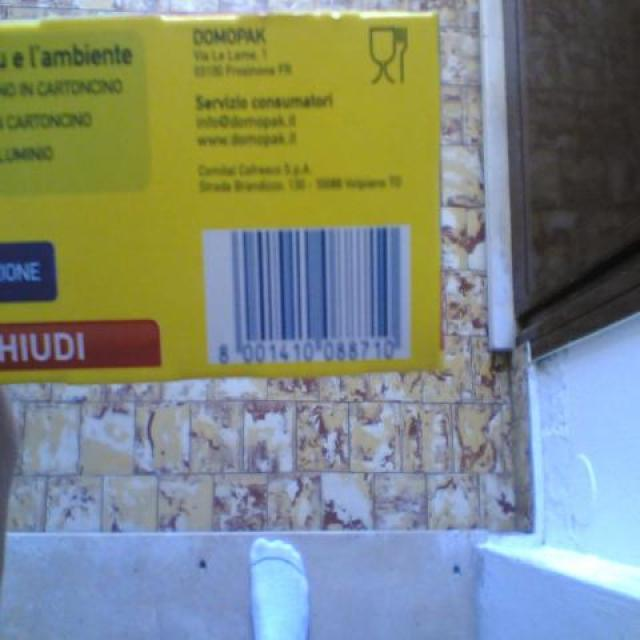Barcode: (203, 221, 413, 363)
